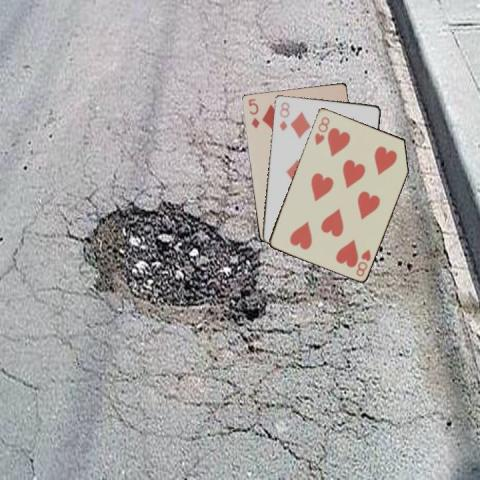5d: (245, 95, 261, 130)
8d: (276, 99, 290, 132)
8h: (311, 113, 331, 147), (353, 246, 372, 278)
